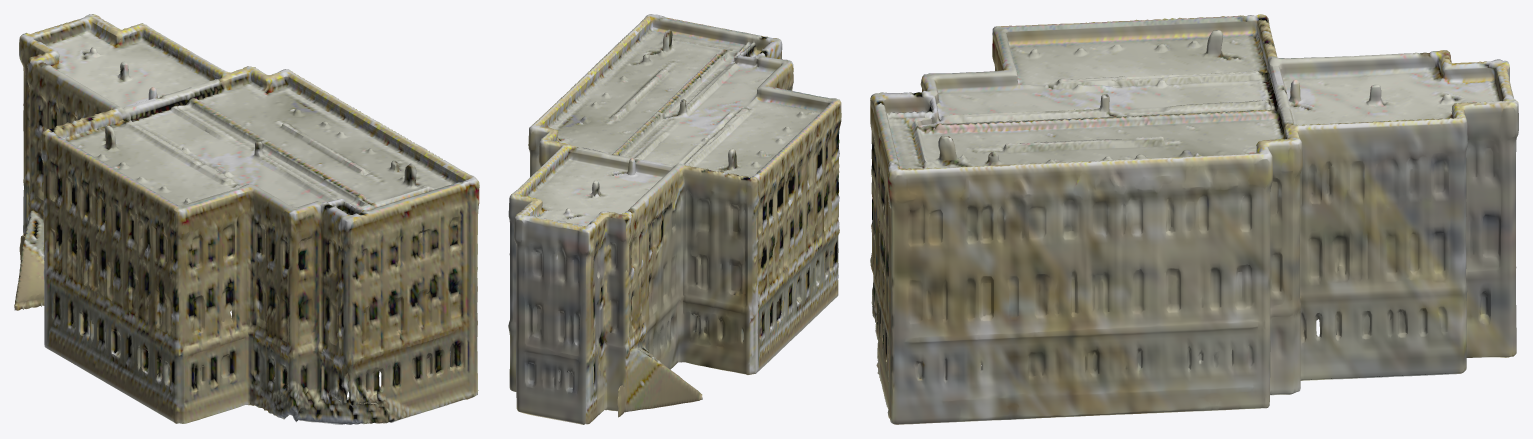
Rendered from alcatraz_prison.glb.
3 renders of one model, left to right at view 1: azimuth 30°, elevation 25°; view 2: azimuth 150°, elevation 25°; view 3: azimuth 270°, elevation 25°, orthographic. The views are drawn at different scales.
Visible parts, largest first — view 1: alcatraz_prison; view 2: alcatraz_prison; view 3: alcatraz_prison.
Part boxes in pixels (x1,y1,x2,y2): alcatraz_prison: [14, 14, 479, 424]; alcatraz_prison: [508, 14, 841, 424]; alcatraz_prison: [870, 14, 1518, 424].
Bounding box in the file's own units: 1.28 × 0.9954 × 2.2.
